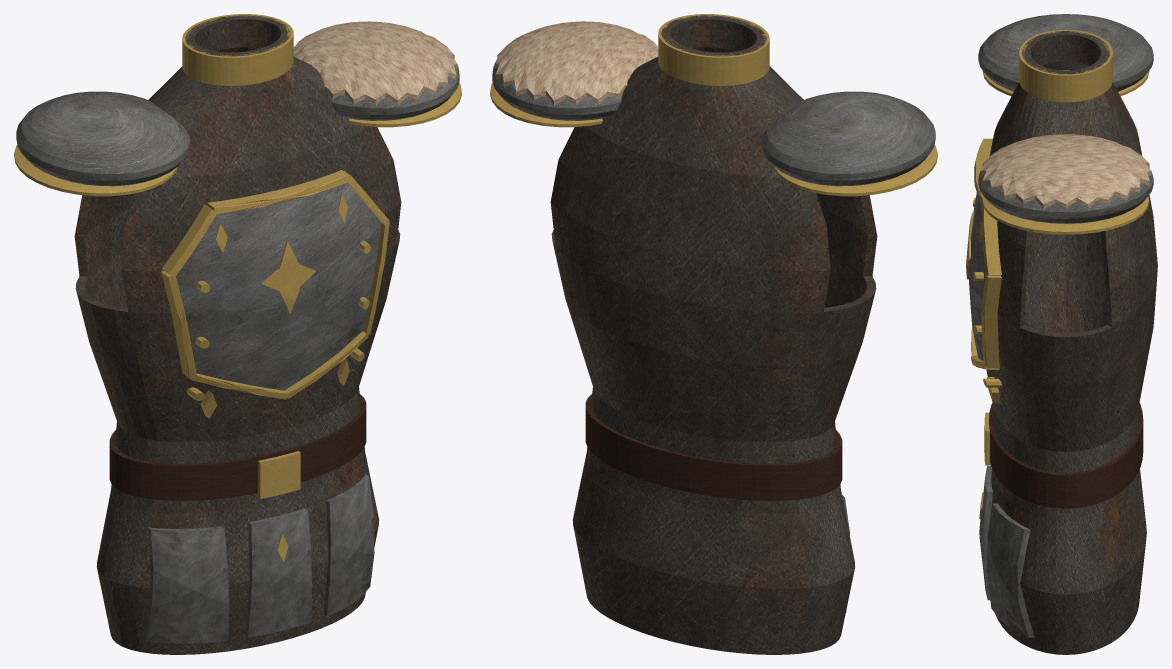
The model's file is heavy.obj.
3 renders of one model, left to right at view 1: azimuth 30°, elevation 25°; view 2: azimuth 150°, elevation 25°; view 3: azimuth 270°, elevation 25°, orthographic. The views are drawn at different scales.
Parts seen in each view (by area): view 1: cuirass, breastplate, left_pauldron, right_fur_mantle, skirt_-12, belt, skirt_0, skirt_12, collar_trim, right_pauldron, left_rim, breast_trim_4 (+8 smaller); view 2: cuirass, left_pauldron, belt, right_fur_mantle, collar_trim, right_pauldron, left_rim, right_rim; view 3: cuirass, right_fur_mantle, left_pauldron, belt, skirt_12, collar_trim, right_pauldron, right_rim, breastplate, breast_trim_2, breast_trim_3, skirt_0 (+3 smaller).
Boxes of the visible parts, x1=… form: cuirass: x1=74, y1=15, x2=401, y2=654; breastplate: x1=176, y1=183, x2=381, y2=390; left_pauldron: x1=16, y1=91, x2=190, y2=186; right_fur_mantle: x1=293, y1=21, x2=457, y2=105; skirt_-12: x1=142, y1=526, x2=229, y2=643; belt: x1=109, y1=394, x2=366, y2=500; skirt_0: x1=244, y1=508, x2=312, y2=637; skirt_12: x1=323, y1=474, x2=374, y2=616; collar_trim: x1=182, y1=14, x2=293, y2=85; right_pauldron: x1=329, y1=66, x2=459, y2=120; left_rim: x1=14, y1=145, x2=177, y2=196; breast_trim_4: x1=207, y1=170, x2=349, y2=214; cuirass: x1=550, y1=15, x2=877, y2=654; left_pauldron: x1=761, y1=91, x2=935, y2=186; belt: x1=585, y1=394, x2=842, y2=500; right_fur_mantle: x1=494, y1=21, x2=658, y2=105; collar_trim: x1=658, y1=14, x2=769, y2=85; right_pauldron: x1=492, y1=66, x2=623, y2=120; left_rim: x1=774, y1=145, x2=937, y2=196; right_rim: x1=490, y1=82, x2=602, y2=127; cuirass: x1=986, y1=31, x2=1157, y2=654; right_fur_mantle: x1=980, y1=134, x2=1151, y2=209; left_pauldron: x1=978, y1=14, x2=1153, y2=91; belt: x1=989, y1=403, x2=1143, y2=508; skirt_12: x1=987, y1=503, x2=1034, y2=637; collar_trim: x1=1019, y1=29, x2=1112, y2=102; right_pauldron: x1=978, y1=172, x2=1153, y2=223; right_rim: x1=982, y1=196, x2=1149, y2=234; breastplate: x1=968, y1=192, x2=985, y2=360; breast_trim_2: x1=981, y1=274, x2=1001, y2=368; breast_trim_3: x1=982, y1=204, x2=1001, y2=275; skirt_0: x1=979, y1=466, x2=992, y2=600.
Bounding box in the file's own units: 84.08 × 110 × 35.01.
Materials: 5 (5 with a texture image).
